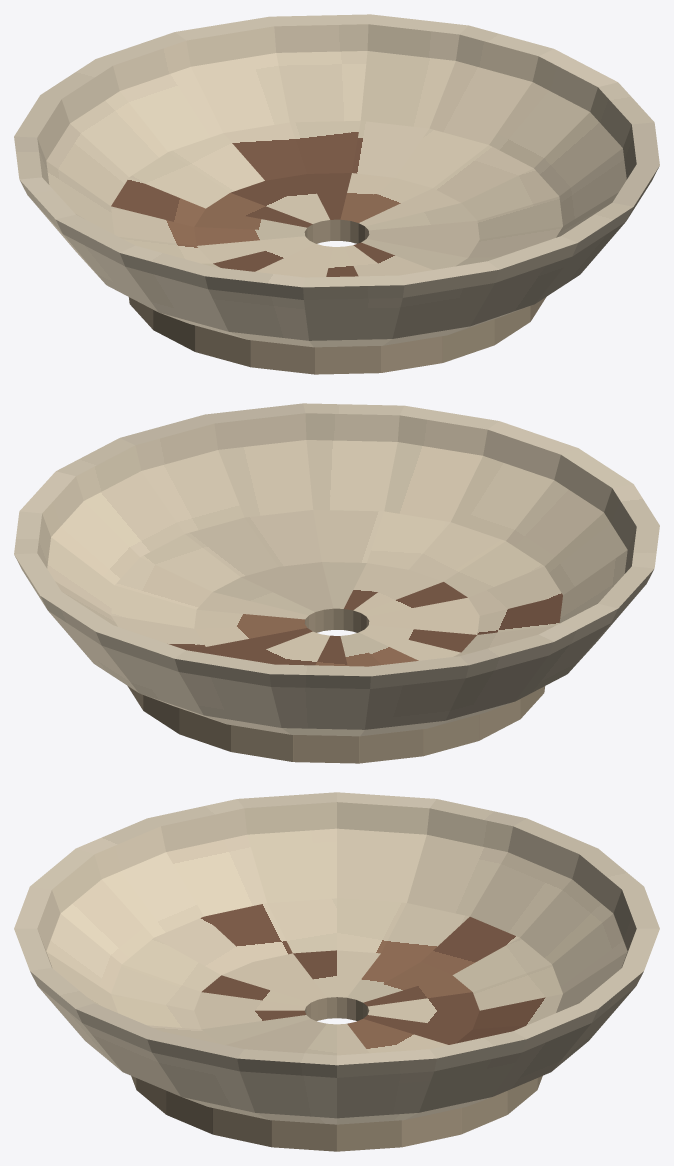
The model's file is antique-shino.glb.
The picture shows the model from 3 angles, top to bottom: view 1: azimuth 30°, elevation 25°; view 2: azimuth 150°, elevation 25°; view 3: azimuth 270°, elevation 25°; orthographic projection.
Parts seen in each view (by area): view 1: antique-shino/ceramic-inner-wall-6, antique-shino/ceramic-inner-lower-7, antique-shino/ceramic-inner-floor-8, antique-shino/ceramic-rim-4, antique-shino/ceramic-outer-mid-2, antique-shino/ceramic-inner-upper-5, antique-shino/ceramic-foot-outer-1, antique-shino/ceramic-outer-upper-3, antique-shino/ceramic-outer-lower-1, antique-shino/ceramic-drainage-wall-9; view 2: antique-shino/ceramic-inner-wall-6, antique-shino/ceramic-inner-lower-7, antique-shino/ceramic-inner-floor-8, antique-shino/ceramic-rim-4, antique-shino/ceramic-outer-mid-2, antique-shino/ceramic-inner-upper-5, antique-shino/ceramic-foot-outer-1, antique-shino/ceramic-outer-upper-3, antique-shino/ceramic-outer-lower-1, antique-shino/ceramic-drainage-wall-9; view 3: antique-shino/ceramic-inner-wall-6, antique-shino/ceramic-inner-lower-7, antique-shino/ceramic-inner-floor-8, antique-shino/ceramic-rim-4, antique-shino/ceramic-outer-mid-2, antique-shino/ceramic-inner-upper-5, antique-shino/ceramic-foot-outer-1, antique-shino/ceramic-outer-upper-3, antique-shino/ceramic-outer-lower-1, antique-shino/ceramic-drainage-wall-9.
Boxes of the visible parts, box(x1,y1,x2,y2) form: antique-shino/ceramic-inner-wall-6: box(46, 51, 626, 237); antique-shino/ceramic-inner-lower-7: box(111, 121, 562, 267); antique-shino/ceramic-inner-floor-8: box(194, 173, 479, 277); antique-shino/ceramic-rim-4: box(14, 14, 659, 287); antique-shino/ceramic-outer-mid-2: box(29, 197, 625, 340); antique-shino/ceramic-inner-upper-5: box(37, 24, 636, 184); antique-shino/ceramic-foot-outer-1: box(128, 297, 546, 374); antique-shino/ceramic-outer-upper-3: box(20, 166, 659, 299); antique-shino/ceramic-outer-lower-1: box(160, 306, 529, 347); antique-shino/ceramic-drainage-wall-9: box(304, 219, 369, 243); antique-shino/ceramic-inner-wall-6: box(47, 440, 627, 626); antique-shino/ceramic-inner-lower-7: box(111, 510, 562, 656); antique-shino/ceramic-inner-floor-8: box(194, 562, 479, 666); antique-shino/ceramic-rim-4: box(14, 403, 659, 676); antique-shino/ceramic-outer-mid-2: box(48, 586, 644, 729); antique-shino/ceramic-inner-upper-5: box(37, 413, 636, 573); antique-shino/ceramic-foot-outer-1: box(127, 686, 545, 763); antique-shino/ceramic-outer-upper-3: box(14, 555, 653, 688); antique-shino/ceramic-outer-lower-1: box(144, 695, 513, 736); antique-shino/ceramic-drainage-wall-9: box(304, 608, 369, 632); antique-shino/ceramic-inner-wall-6: box(46, 828, 627, 1012); antique-shino/ceramic-inner-lower-7: box(111, 898, 562, 1043); antique-shino/ceramic-inner-floor-8: box(194, 950, 479, 1055); antique-shino/ceramic-rim-4: box(14, 792, 659, 1065); antique-shino/ceramic-outer-mid-2: box(38, 987, 635, 1118); antique-shino/ceramic-inner-upper-5: box(37, 802, 636, 967); antique-shino/ceramic-foot-outer-1: box(131, 1076, 542, 1151); antique-shino/ceramic-outer-upper-3: box(30, 971, 643, 1077); antique-shino/ceramic-outer-lower-1: box(182, 1097, 491, 1124); antique-shino/ceramic-drainage-wall-9: box(304, 997, 369, 1020).
Bounding box in the file's own units: 0.625 × 0.1429 × 0.625.
Materials: 4 (4 with a texture image).
